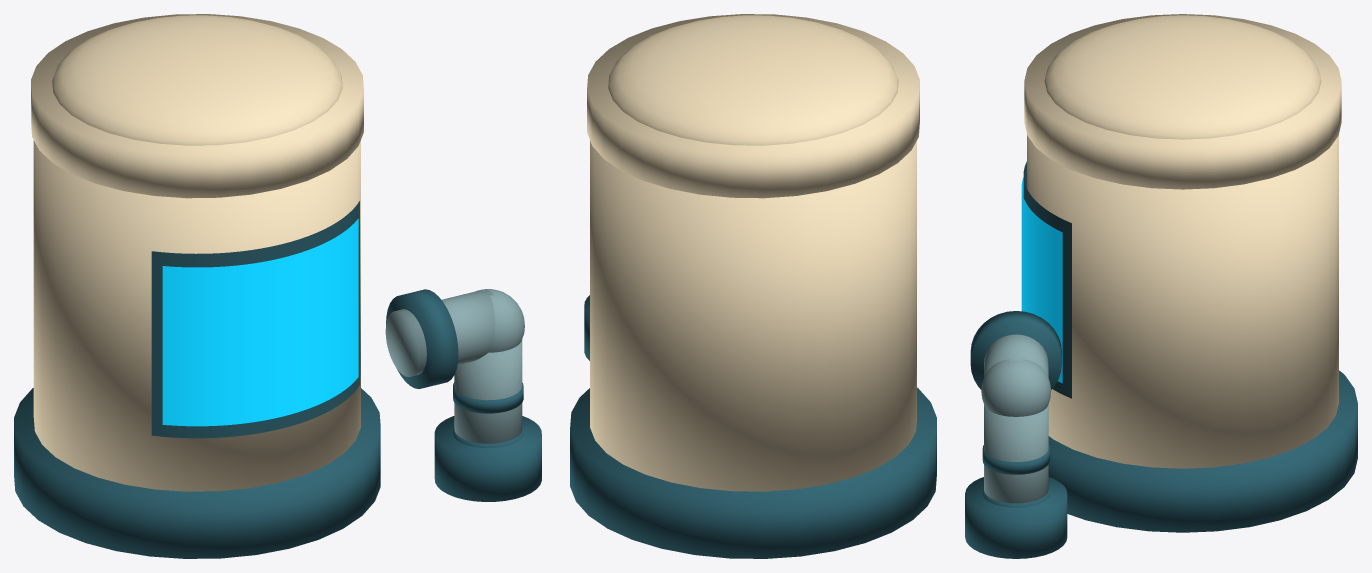
The model's file is refinery.glb.
The picture shows the model from 3 angles, left to right: view 1: azimuth 30°, elevation 25°; view 2: azimuth 150°, elevation 25°; view 3: azimuth 270°, elevation 25°; orthographic projection. The views are drawn at different scales.
Visible parts, largest first — view 1: Refinery tank, Window turquoise glass, Rounded refinery crown, Refinery base, Refinery lid, Window dark border, Pipe foot, Refinery pipe, Pipe top connector, Pipe collar, Pipe elbow, Pipe joint.001; view 2: Refinery tank, Rounded refinery crown, Refinery base, Refinery lid; view 3: Refinery tank, Rounded refinery crown, Refinery base, Refinery lid, Pipe foot, Refinery pipe, Window turquoise glass, Pipe elbow, Pipe collar, Window dark border, Pipe top connector, Pipe joint.001.
Part boxes in pixels (bbox=[...]): Refinery tank: bbox=[33, 140, 360, 491]; Window turquoise glass: bbox=[162, 218, 358, 426]; Rounded refinery crown: bbox=[52, 15, 342, 145]; Refinery base: bbox=[14, 388, 380, 558]; Refinery lid: bbox=[31, 14, 363, 198]; Window dark border: bbox=[151, 201, 359, 438]; Pipe foot: bbox=[434, 416, 541, 501]; Refinery pipe: bbox=[454, 339, 522, 443]; Pipe top connector: bbox=[385, 289, 495, 376]; Pipe collar: bbox=[386, 289, 458, 388]; Pipe elbow: bbox=[476, 289, 524, 352]; Pipe joint.001: bbox=[453, 382, 523, 413]; Refinery tank: bbox=[590, 140, 916, 491]; Rounded refinery crown: bbox=[608, 15, 898, 145]; Refinery base: bbox=[570, 387, 936, 558]; Refinery lid: bbox=[587, 14, 919, 198]; Refinery tank: bbox=[1027, 135, 1338, 468]; Rounded refinery crown: bbox=[1044, 15, 1321, 139]; Refinery base: bbox=[1048, 370, 1357, 532]; Refinery lid: bbox=[1024, 14, 1341, 189]; Pipe foot: bbox=[965, 477, 1067, 558]; Refinery pipe: bbox=[984, 404, 1048, 503]; Window turquoise glass: bbox=[1021, 177, 1062, 383]; Pipe elbow: bbox=[981, 359, 1051, 416]; Pipe collar: bbox=[970, 311, 1061, 389]; Window dark border: bbox=[1023, 161, 1071, 398]; Pipe top connector: bbox=[984, 334, 1048, 377]; Pipe joint.001: bbox=[982, 445, 1049, 474].
Size of the model in its own units: 1.67 by 1.68 by 1.46.
